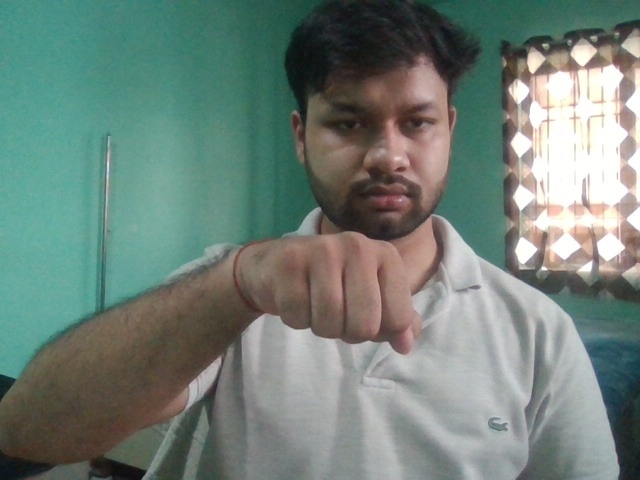Yes: (226, 228, 427, 364)
